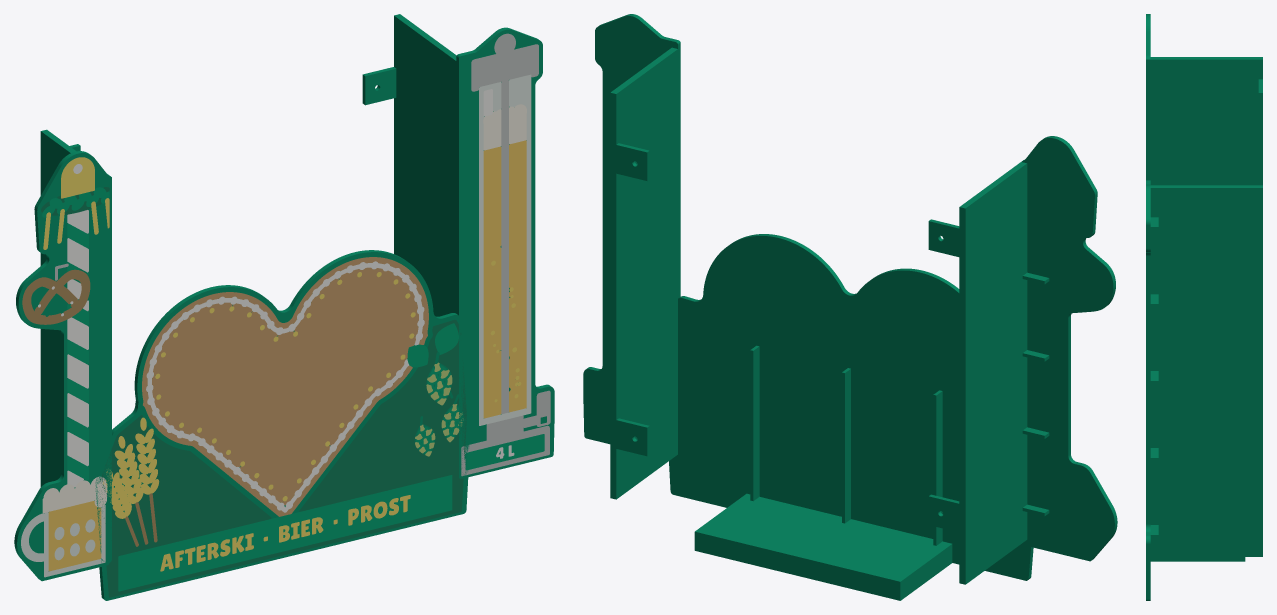
Rendered from parts.glb.
3 views of the same model, side by side, from view 1: azimuth 30°, elevation 25°; view 2: azimuth 150°, elevation 25°; view 3: azimuth 270°, elevation 25° (orthographic). The views are drawn at different scales.
Visible parts, largest first — view 1: topper__ginger, wing_right__base, topper__deep, wing_left__base, topper__green, wing_right__beer, topper__base, wing_right__steel, topper__yellow, topper__white, wing_right__glass, wing_left__white (+9 smaller); view 2: topper__base, wing_left__base, wing_right__base; view 3: wing_right__base, wing_left__base, topper__base.
Boxes of the visible parts, bbox=[...] form: topper__ginger: bbox=[142, 257, 428, 516]; wing_right__base: bbox=[362, 14, 554, 478]; topper__deep: bbox=[100, 319, 466, 597]; wing_left__base: bbox=[14, 129, 111, 581]; topper__green: bbox=[118, 323, 462, 591]; wing_right__beer: bbox=[483, 140, 526, 418]; topper__base: bbox=[95, 250, 471, 600]; wing_right__steel: bbox=[461, 33, 550, 476]; topper__yellow: bbox=[103, 272, 415, 571]; topper__white: bbox=[146, 261, 424, 512]; wing_right__glass: bbox=[479, 74, 531, 425]; wing_left__white: bbox=[38, 164, 88, 487]; topper__base: bbox=[669, 234, 1037, 600]; wing_left__base: bbox=[928, 136, 1117, 584]; wing_right__base: bbox=[583, 14, 680, 499]; wing_right__base: bbox=[1146, 180, 1262, 600]; wing_left__base: bbox=[1146, 14, 1262, 185]; topper__base: bbox=[1150, 557, 1245, 561].
Size of the model in its own units: 348 by 293 by 73.
